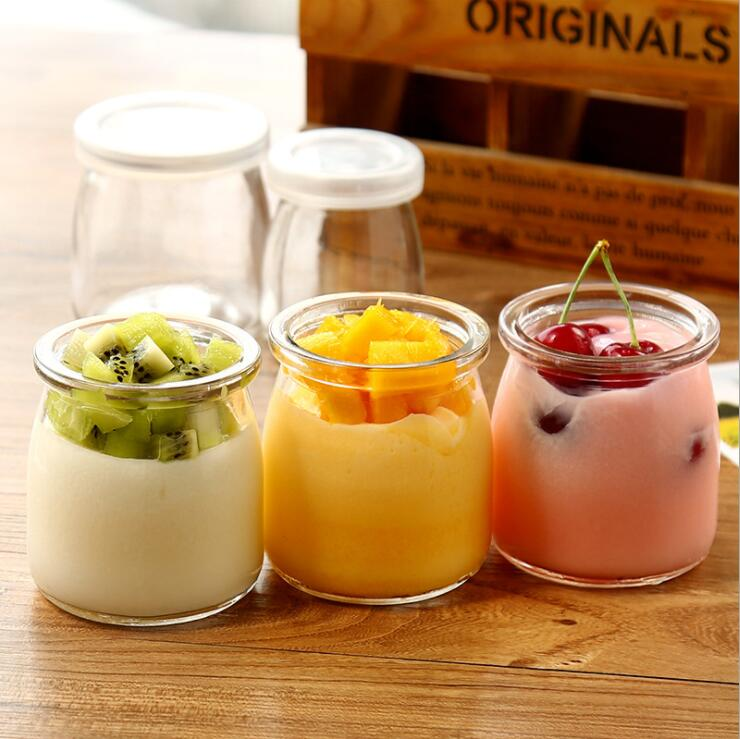glass_bottle: (23, 306, 268, 632), (491, 273, 727, 595), (263, 286, 489, 613)
